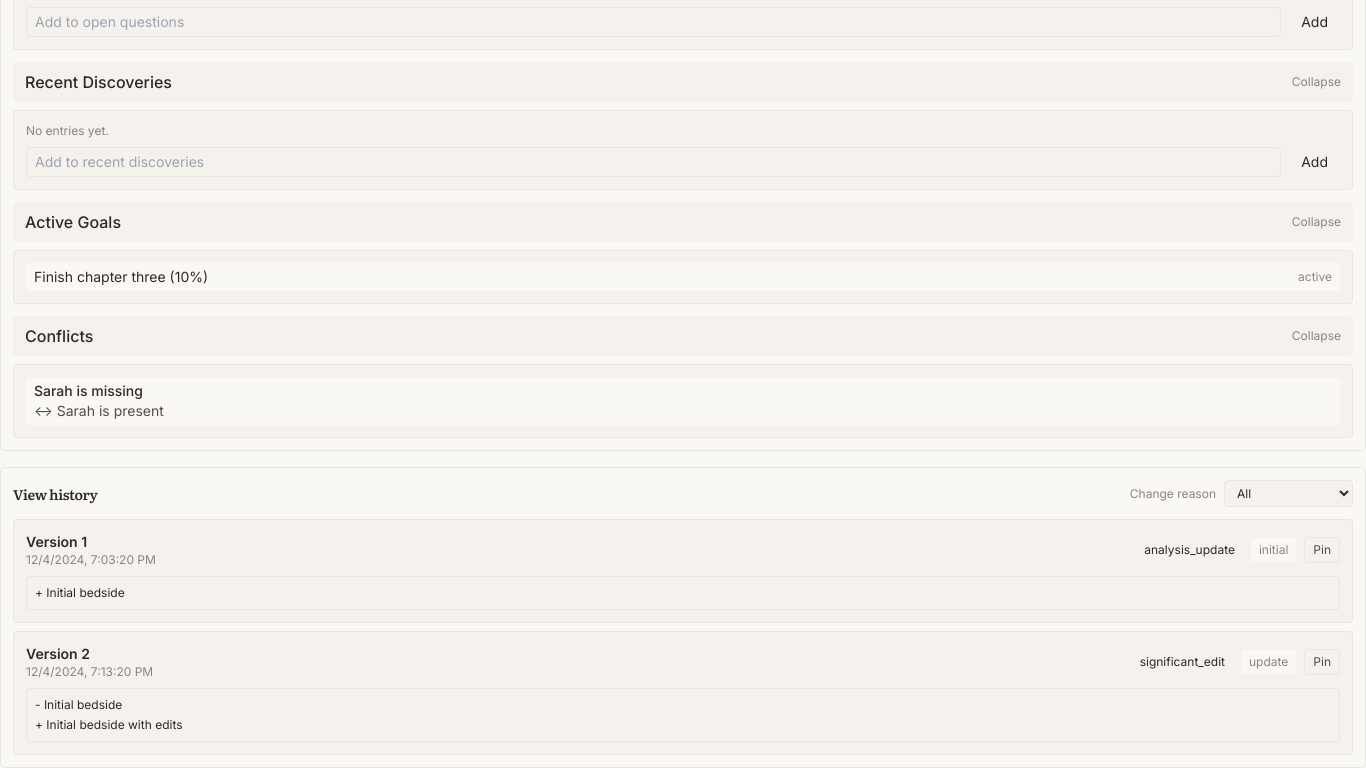
Scenario: BedsideNotePanel › filters history by change reason and supports pinning
(page scrolled)
Select "analysis_update" in the dropdown labelled "Change reason": (1288, 494) [1224, 480, 1353, 507]
(page scrolled)
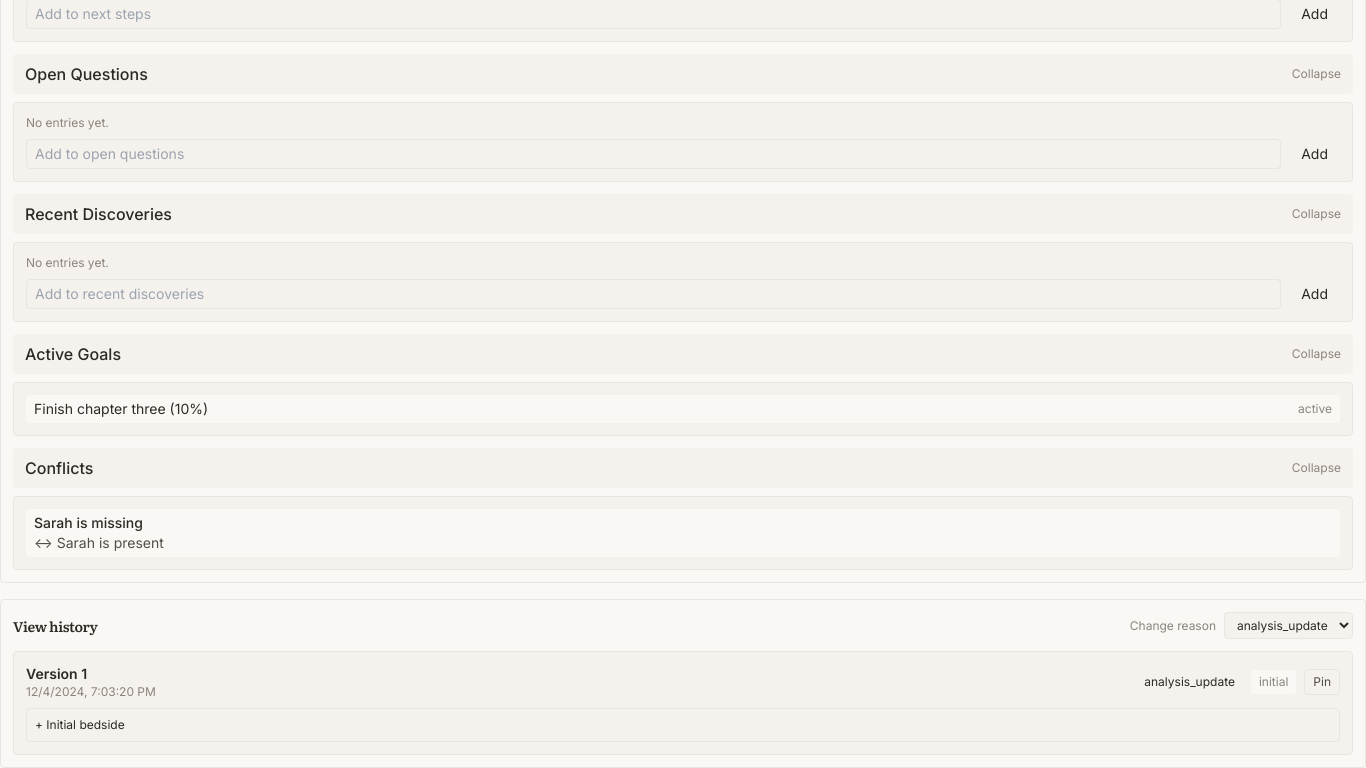
Expected: the number of buttons "Pin" is 1
Expected: the text "significant_edit" is gone
Click the button "Pin": (1322, 682) [1304, 669, 1340, 695]
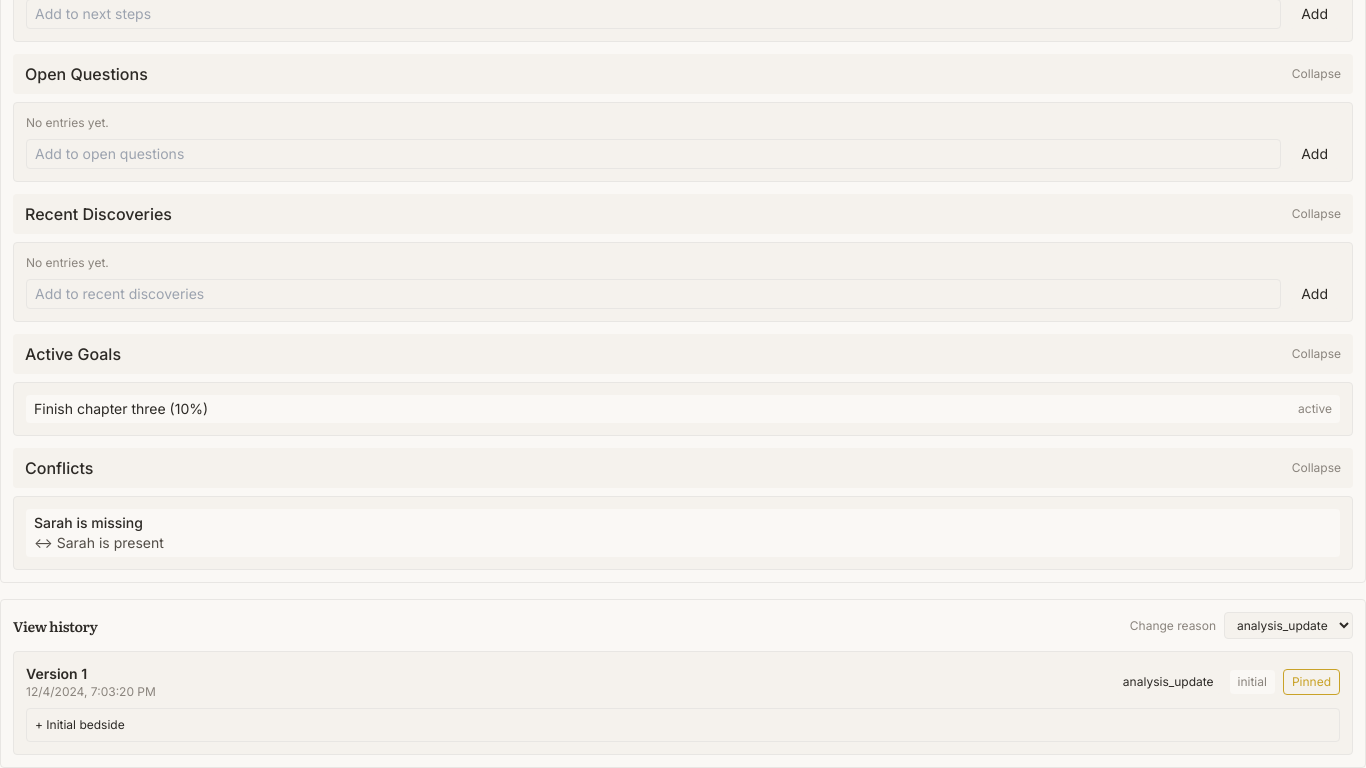
Expected: the button "Pinned" is shown, [1283, 669, 1340, 695]
